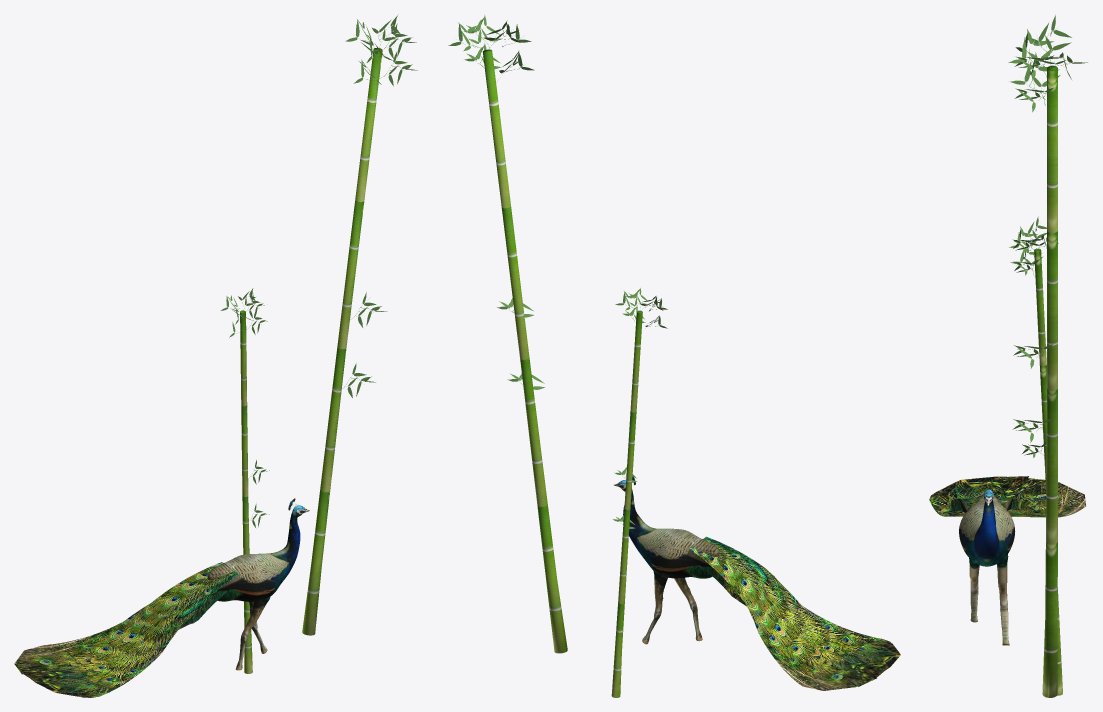
File: Peacock_World3.obj
3 renders of one model, left to right at view 1: azimuth 30°, elevation 25°; view 2: azimuth 150°, elevation 25°; view 3: azimuth 270°, elevation 25°, orthographic. The views are drawn at different scales.
Visible parts, largest first — view 1: Mesh84 Group85 Exotic_Bird1 Model, Mesh25 Group32 Group1 Exotic_Bird1 Model, Mesh79 Subsurf_4_1 Group88 Group85 Exotic_Bird1 Model, Mesh58 Group74 Group43 Exotic_Bird1 Model; view 2: Mesh84 Group85 Exotic_Bird1 Model, Mesh25 Group32 Group1 Exotic_Bird1 Model, Mesh79 Subsurf_4_1 Group88 Group85 Exotic_Bird1 Model, Mesh58 Group74 Group43 Exotic_Bird1 Model; view 3: Mesh25 Group32 Group1 Exotic_Bird1 Model, Mesh84 Group85 Exotic_Bird1 Model, Mesh79 Subsurf_4_1 Group88 Group85 Exotic_Bird1 Model, Mesh58 Group74 Group43 Exotic_Bird1 Model, Mesh80 Group89 Group85 Exotic_Bird1 Model, Mesh78 Group87 Group85 Exotic_Bird1 Model.
Boxes of the visible parts, bbox=[...] form: Mesh84 Group85 Exotic_Bird1 Model: bbox=[14, 562, 237, 697]; Mesh25 Group32 Group1 Exotic_Bird1 Model: bbox=[302, 48, 382, 635]; Mesh79 Subsurf_4_1 Group88 Group85 Exotic_Bird1 Model: bbox=[207, 505, 309, 601]; Mesh58 Group74 Group43 Exotic_Bird1 Model: bbox=[240, 310, 252, 673]; Mesh84 Group85 Exotic_Bird1 Model: bbox=[690, 536, 900, 690]; Mesh25 Group32 Group1 Exotic_Bird1 Model: bbox=[482, 49, 567, 653]; Mesh79 Subsurf_4_1 Group88 Group85 Exotic_Bird1 Model: bbox=[614, 480, 719, 578]; Mesh58 Group74 Group43 Exotic_Bird1 Model: bbox=[611, 310, 642, 697]; Mesh25 Group32 Group1 Exotic_Bird1 Model: bbox=[1042, 65, 1057, 697]; Mesh84 Group85 Exotic_Bird1 Model: bbox=[929, 476, 1086, 517]; Mesh79 Subsurf_4_1 Group88 Group85 Exotic_Bird1 Model: bbox=[959, 489, 1015, 566]; Mesh58 Group74 Group43 Exotic_Bird1 Model: bbox=[1034, 248, 1062, 695]; Mesh80 Group89 Group85 Exotic_Bird1 Model: bbox=[997, 554, 1009, 645]; Mesh78 Group87 Group85 Exotic_Bird1 Model: bbox=[969, 558, 979, 622].
Bounding box in the file's own units: 150 × 225 × 43.96.
Materials: 6 (4 with a texture image).
